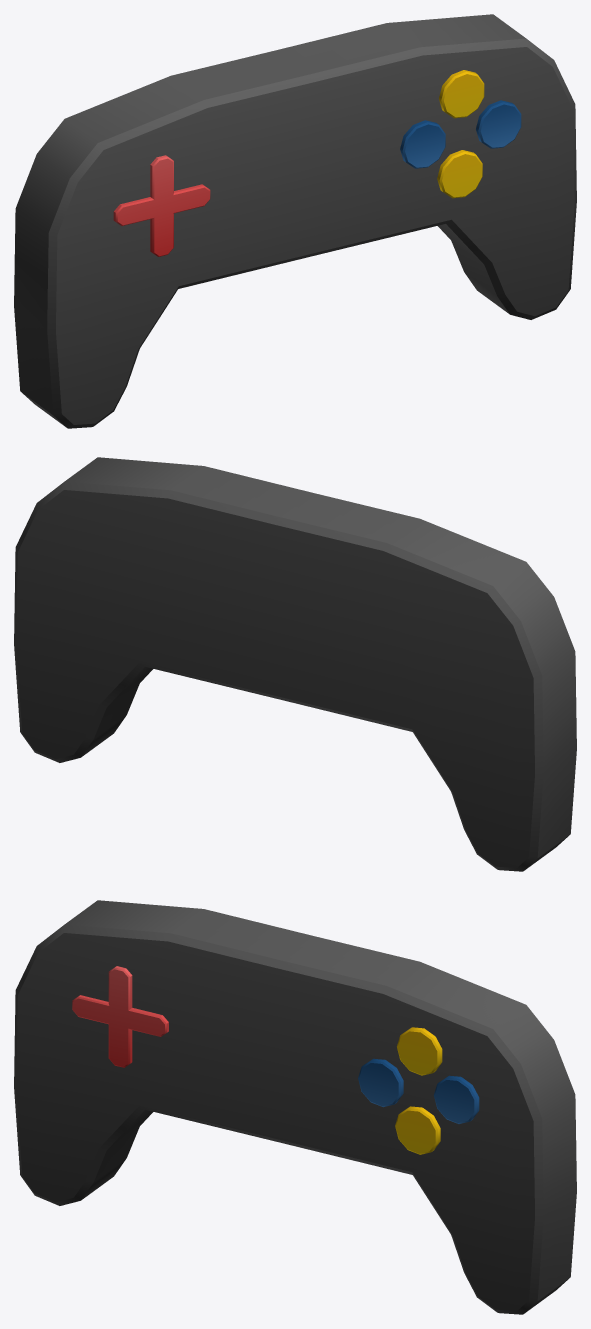
Rendered from Joystick_1.glb.
3 views of the same model, one above another, from view 1: azimuth 30°, elevation 25°; view 2: azimuth 150°, elevation 25°; view 3: azimuth 330°, elevation 25° (orthographic).
Visible parts, largest first — view 1: Joystick_1; view 2: Joystick_1; view 3: Joystick_1.
Part boxes in pixels (<box>): Joystick_1: <box>14,14,576,428</box>; Joystick_1: <box>14,457,576,871</box>; Joystick_1: <box>14,900,576,1314</box>.
Bounding box in the file's own units: 0.167 × 0.0903 × 0.0234.
1 material, 1 textured.
